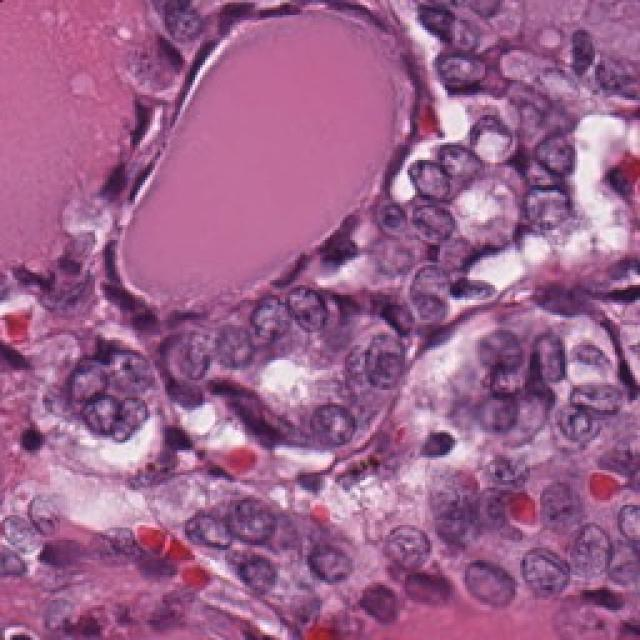abnormal: (356, 504, 442, 593), (158, 492, 253, 567), (498, 540, 594, 612), (456, 98, 532, 183), (450, 541, 528, 620), (83, 339, 172, 406), (549, 373, 629, 447), (398, 184, 469, 264), (305, 522, 375, 603), (228, 478, 289, 561), (538, 388, 605, 460), (83, 388, 156, 452), (414, 40, 511, 88), (233, 280, 294, 356), (56, 347, 119, 419), (272, 273, 331, 343), (307, 389, 365, 459), (534, 126, 580, 197)
